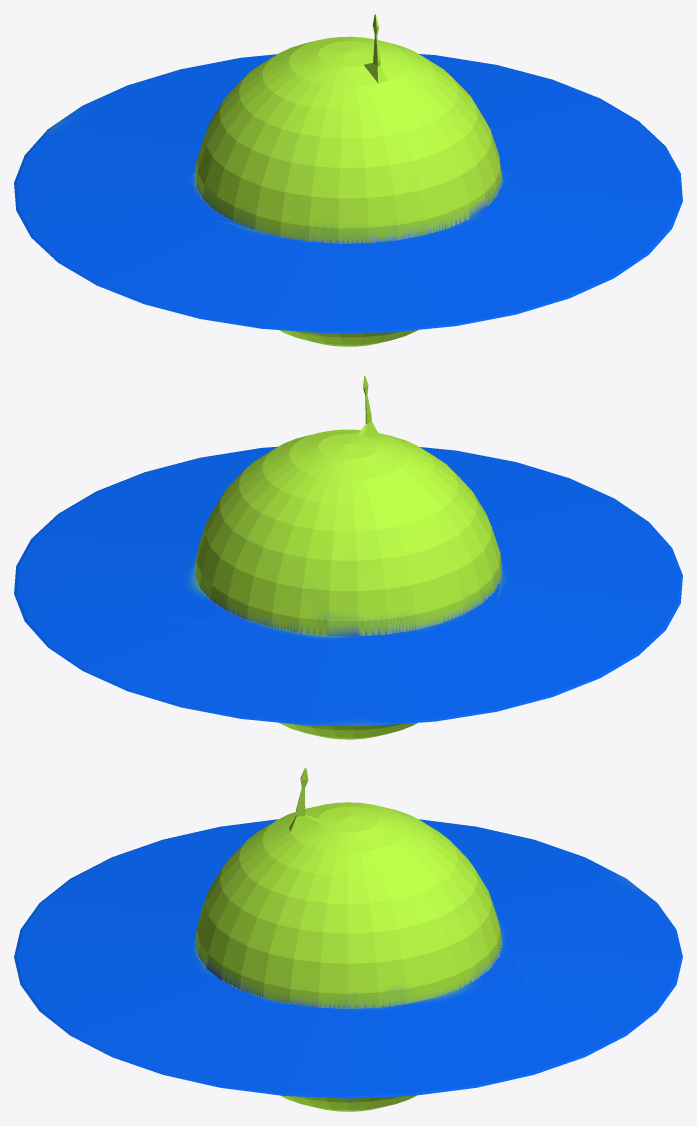
The model's file is ufo.fbx.
3 renders of one model, top to bottom at view 1: azimuth 30°, elevation 25°; view 2: azimuth 150°, elevation 25°; view 3: azimuth 270°, elevation 25°, orthographic.
Visible parts, largest first — view 1: Sphere; view 2: Sphere; view 3: Sphere.
Part boxes in pixels (x1,y1,x2,y2): Sphere: [14, 14, 682, 346]; Sphere: [14, 375, 682, 739]; Sphere: [14, 768, 682, 1111].
Size of the model in its own units: 432 by 236 by 432.
1 material, 1 textured.
